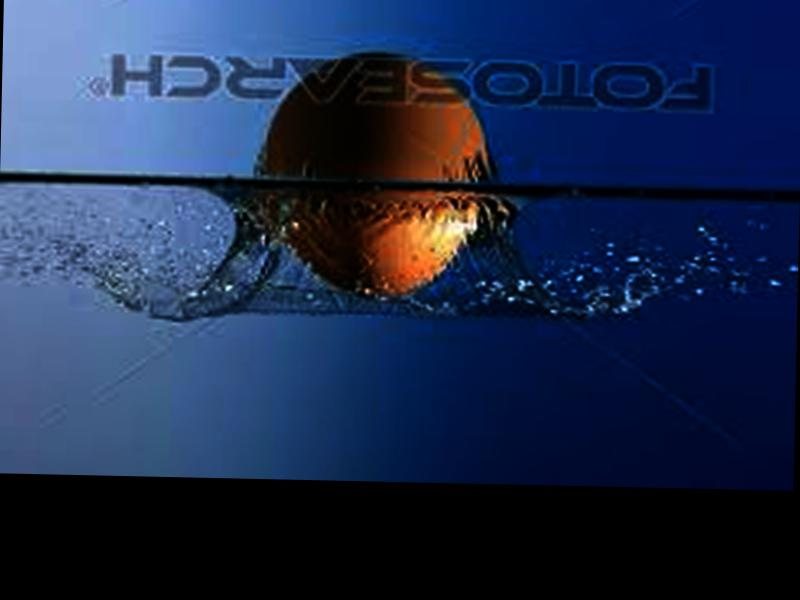Eggs: (260, 54, 490, 301)
